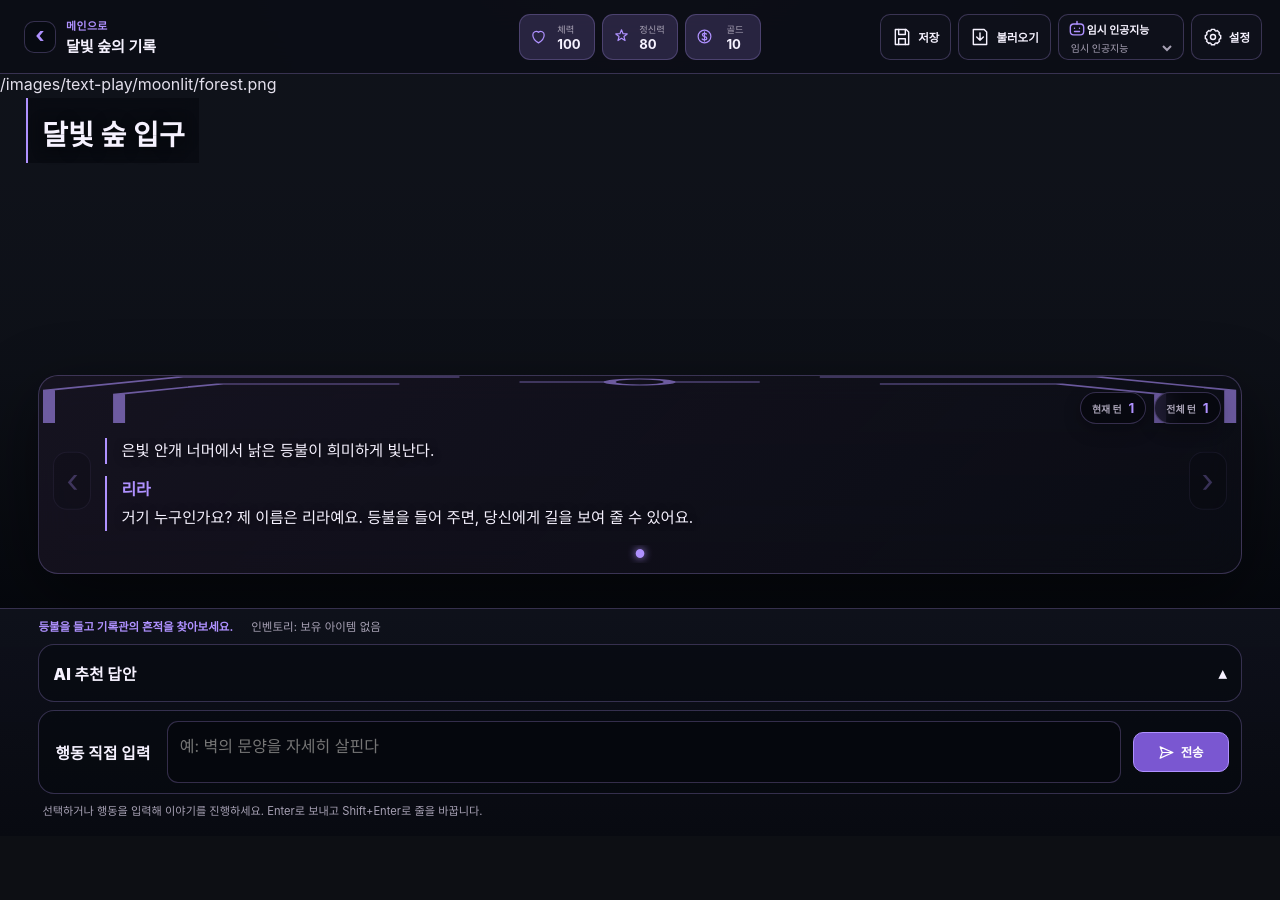
it: Text-Play 플레이 화면 › 상단바와 장면 무대와 스토리 대화와 추천 답안 도크를 제공한다
The width and height of the screenshot is (1280, 900).
expect the element named "장면 무대" is shown: met, box [0,74,1279,608]
expect the element named "스토리 대화" is shown: met, box [38,375,1242,574]
Click the button with aria-label "메인으로 돌아가기: 달빛 숲의 기록": (93, 36) [18,12,168,61]
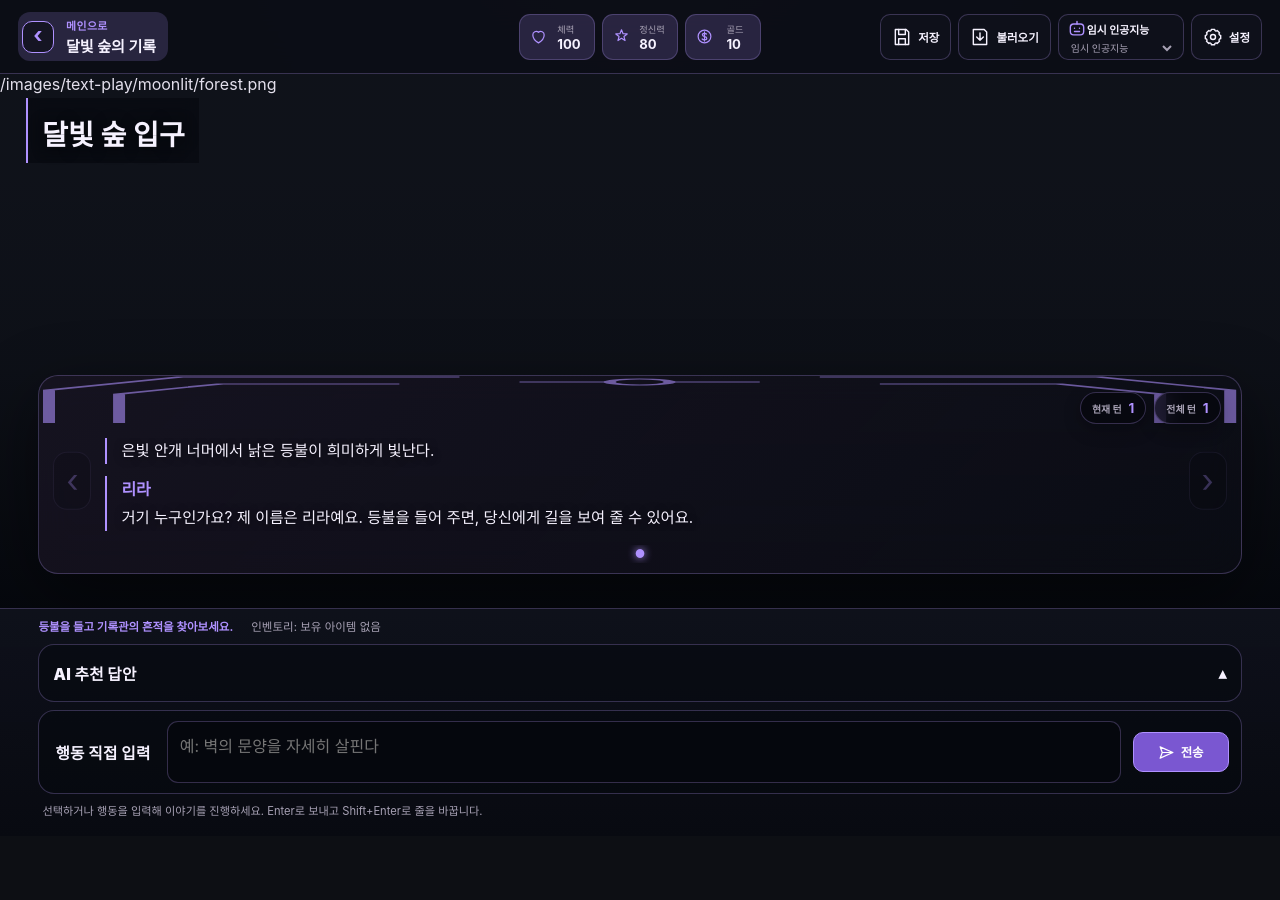
Click the button with aria-label "게임 설정 열기": (1226, 36) [1191,14,1262,60]
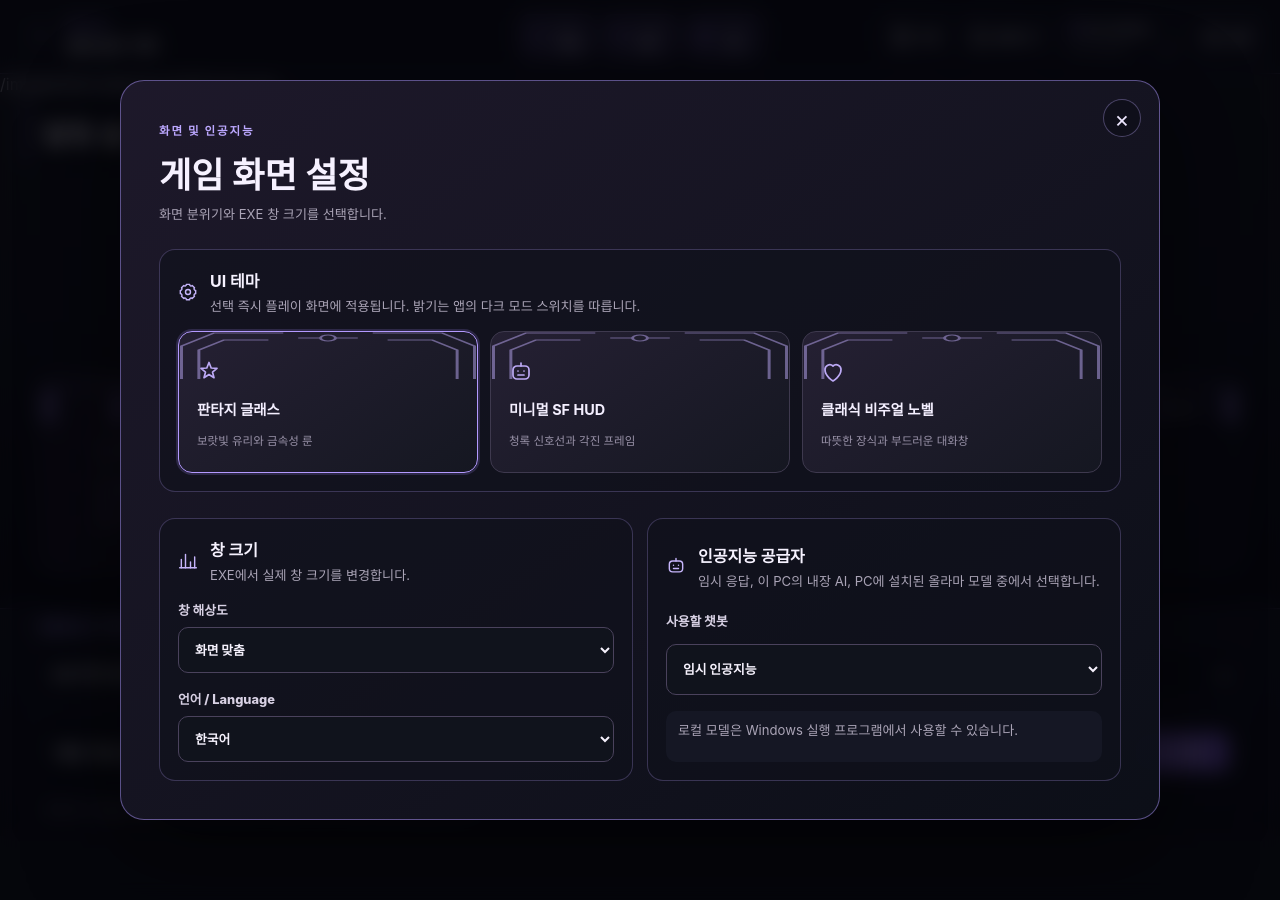
expect the dialog "게임 화면 설정" is shown: met
